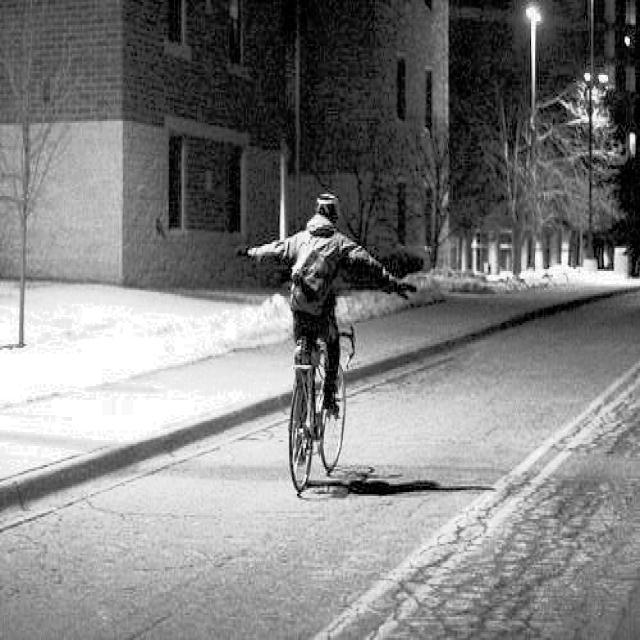Bicycle: (275, 342, 371, 498)
Person: (282, 177, 344, 425)
